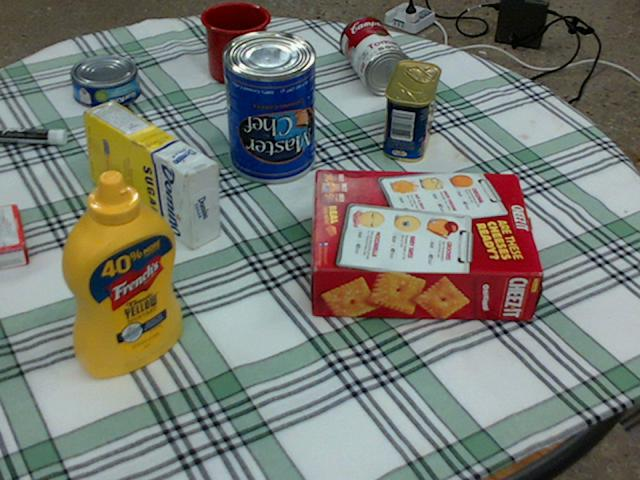cracker_box: (313, 168, 543, 320)
gelatin_box: (0, 204, 29, 269)
large_marker: (0, 127, 66, 144)
master_chef_can: (221, 30, 314, 182)
mug: (201, 1, 272, 83)
mustard_bottle: (60, 170, 181, 375)
potted_meat_can: (382, 60, 439, 161)
sugar_box: (83, 100, 219, 248)
tomato_soup_can: (340, 16, 409, 93)
tuna_fish_can: (71, 54, 140, 107)
